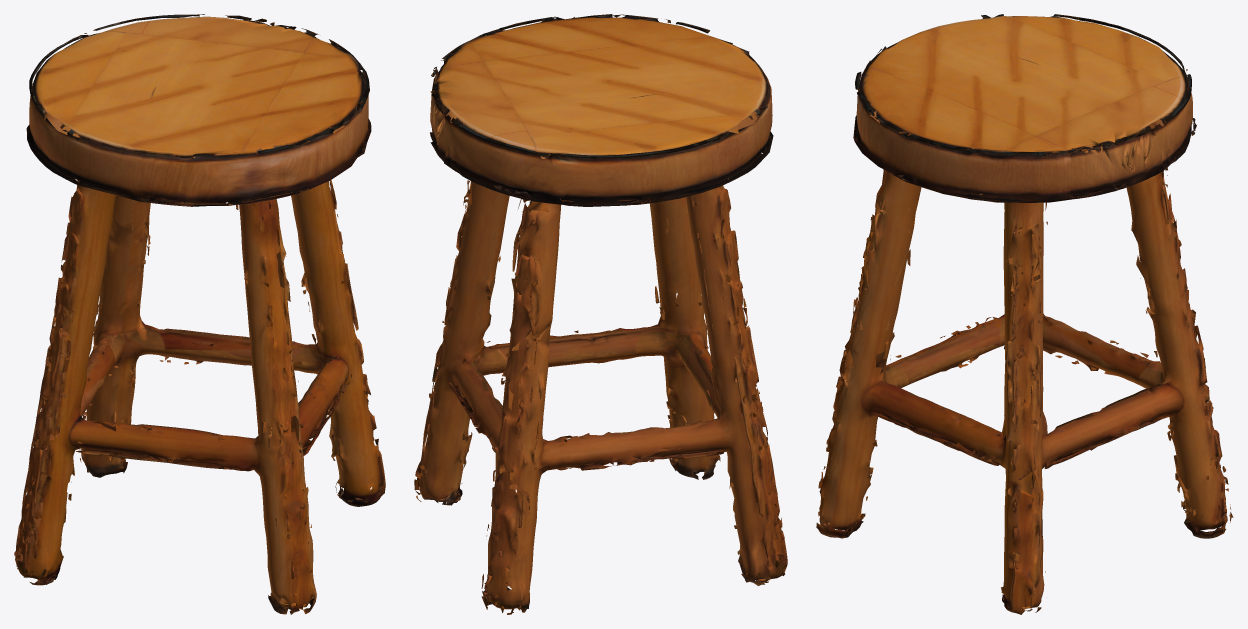
File: Wooden_Stool_Illusion_0610181849_texture.fbx
3 views of the same model, side by side, from view 1: azimuth 30°, elevation 25°; view 2: azimuth 150°, elevation 25°; view 3: azimuth 270°, elevation 25° (orthographic).
Parts seen in each view (by area): view 1: Mesh1; view 2: Mesh1; view 3: Mesh1.
Part boxes in pixels (x1=…): Mesh1: x1=14, y1=14, x2=385, y2=614; Mesh1: x1=414, y1=14, x2=787, y2=614; Mesh1: x1=816, y1=14, x2=1233, y2=614.
Size of the model in its own units: 167 by 200 by 168.
1 material, 1 textured.
